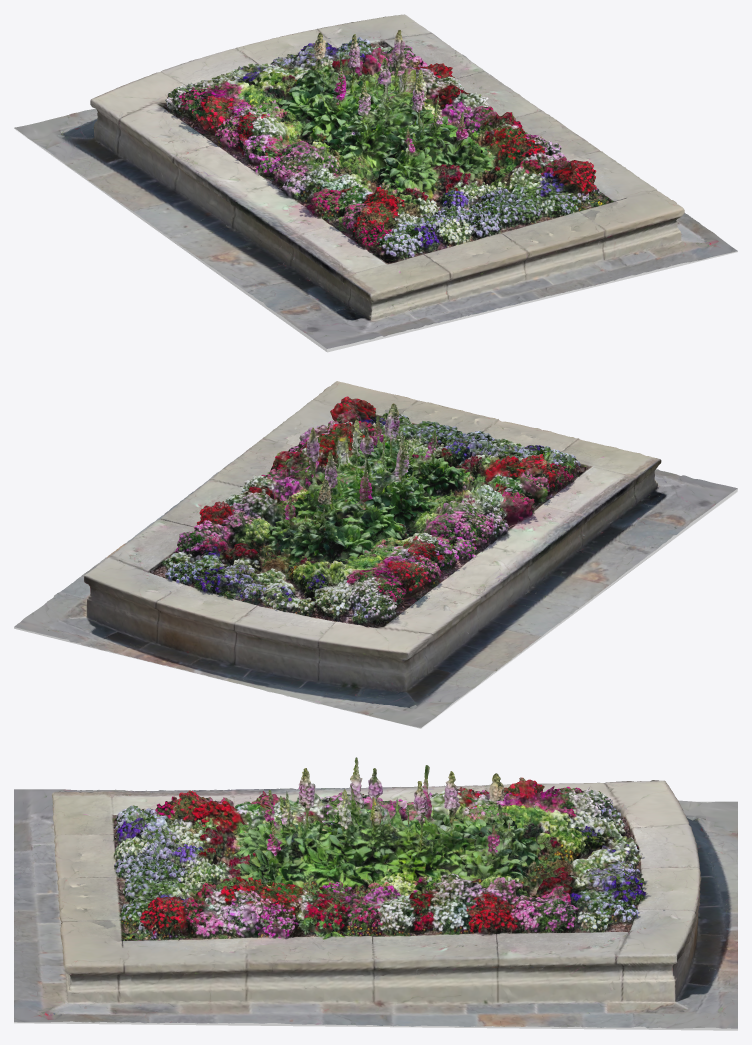
File: flowers.glb
3 renders of one model, top to bottom at view 1: azimuth 30°, elevation 25°; view 2: azimuth 150°, elevation 25°; view 3: azimuth 270°, elevation 25°, orthographic. The views are drawn at different scales.
Parts seen in each view (by area): view 1: Object_4, Object_7, Object_5, Object_8, Object_6, Object_9, Object_10; view 2: Object_4, Object_5, Object_7, Object_8, Object_6, Object_9, Object_10; view 3: Object_4, Object_7, Object_5, Object_8, Object_6, Object_9, Object_10.
Boxes of the visible parts, x1,y1,x2,y2 form: Object_4: [14, 14, 737, 348]; Object_7: [54, 29, 712, 328]; Object_5: [56, 16, 714, 330]; Object_8: [36, 27, 718, 329]; Object_6: [61, 15, 704, 331]; Object_9: [68, 15, 699, 333]; Object_10: [14, 108, 737, 352]; Object_4: [14, 381, 737, 727]; Object_5: [46, 382, 674, 708]; Object_7: [53, 388, 693, 714]; Object_8: [56, 382, 677, 714]; Object_6: [41, 395, 676, 704]; Object_9: [84, 395, 678, 703]; Object_10: [14, 488, 737, 728]; Object_4: [14, 768, 737, 1028]; Object_7: [14, 757, 737, 1026]; Object_5: [22, 777, 737, 1026]; Object_8: [14, 758, 734, 1025]; Object_6: [14, 757, 736, 1025]; Object_9: [15, 758, 725, 1022]; Object_10: [14, 801, 737, 1030].
Size of the model in its own units: 3.63 by 1.19 by 4.82.
Materials: 2 (1 with a texture image).
